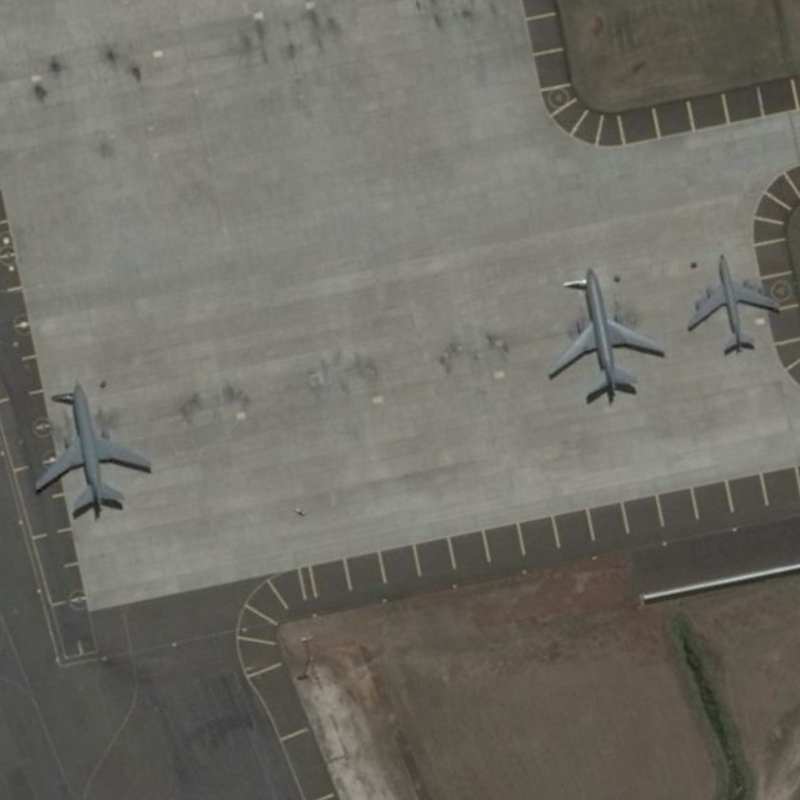A14: (683, 249, 784, 356)
A18: (30, 376, 156, 522), (541, 265, 670, 405)
